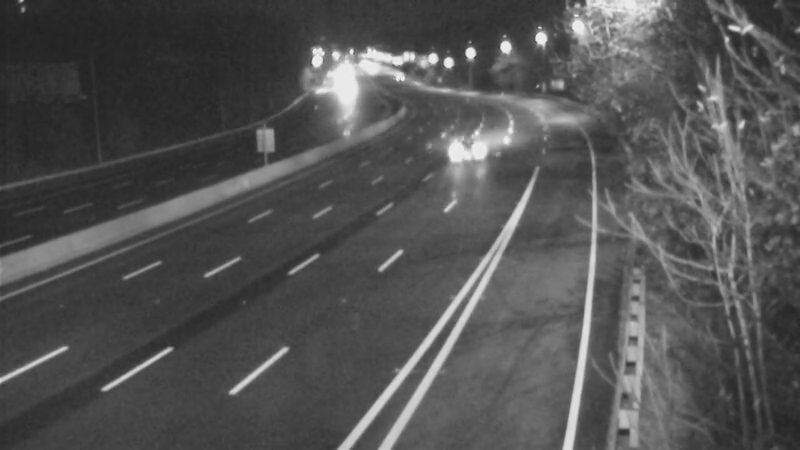vehicle: (372, 49, 422, 99), (447, 121, 497, 171)
